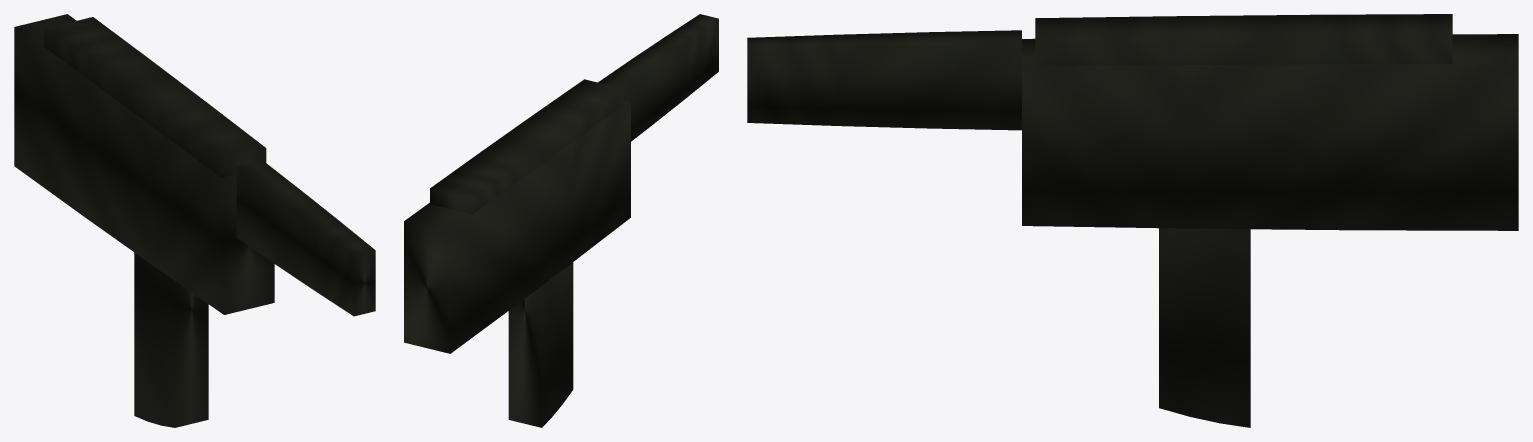
Rendered from wpn_pp19_bizon.glb.
The picture shows the model from 3 angles, left to right: view 1: azimuth 30°, elevation 25°; view 2: azimuth 150°, elevation 25°; view 3: azimuth 270°, elevation 25°; orthographic projection. The views are drawn at different scales.
Visible parts, largest first — view 1: SubMesh_0_Receiver, SubMesh_1_Action, SubMesh_3_BarrelSight, SubMesh_2_Magazine; view 2: SubMesh_0_Receiver, SubMesh_1_Action, SubMesh_2_Magazine, SubMesh_3_BarrelSight; view 3: SubMesh_0_Receiver, SubMesh_3_BarrelSight, SubMesh_1_Action, SubMesh_2_Magazine.
Boxes of the visible parts, left/top/right/bottom form: SubMesh_0_Receiver: left=14, top=14, right=274, bottom=314; SubMesh_1_Action: left=44, top=17, right=266, bottom=177; SubMesh_3_BarrelSight: left=236, top=160, right=375, bottom=316; SubMesh_2_Magazine: left=134, top=252, right=208, bottom=427; SubMesh_0_Receiver: left=404, top=100, right=630, bottom=353; SubMesh_1_Action: left=430, top=79, right=623, bottom=214; SubMesh_2_Magazine: left=508, top=262, right=573, bottom=427; SubMesh_3_BarrelSight: left=598, top=14, right=718, bottom=141; SubMesh_0_Receiver: left=1022, top=34, right=1518, bottom=230; SubMesh_3_BarrelSight: left=747, top=30, right=1021, bottom=130; SubMesh_1_Action: left=1035, top=14, right=1452, bottom=66; SubMesh_2_Magazine: left=1159, top=228, right=1250, bottom=427.
Bounding box in the file's own units: 0.056 × 0.328 × 0.59.
Materials: 1 (1 with a texture image).
